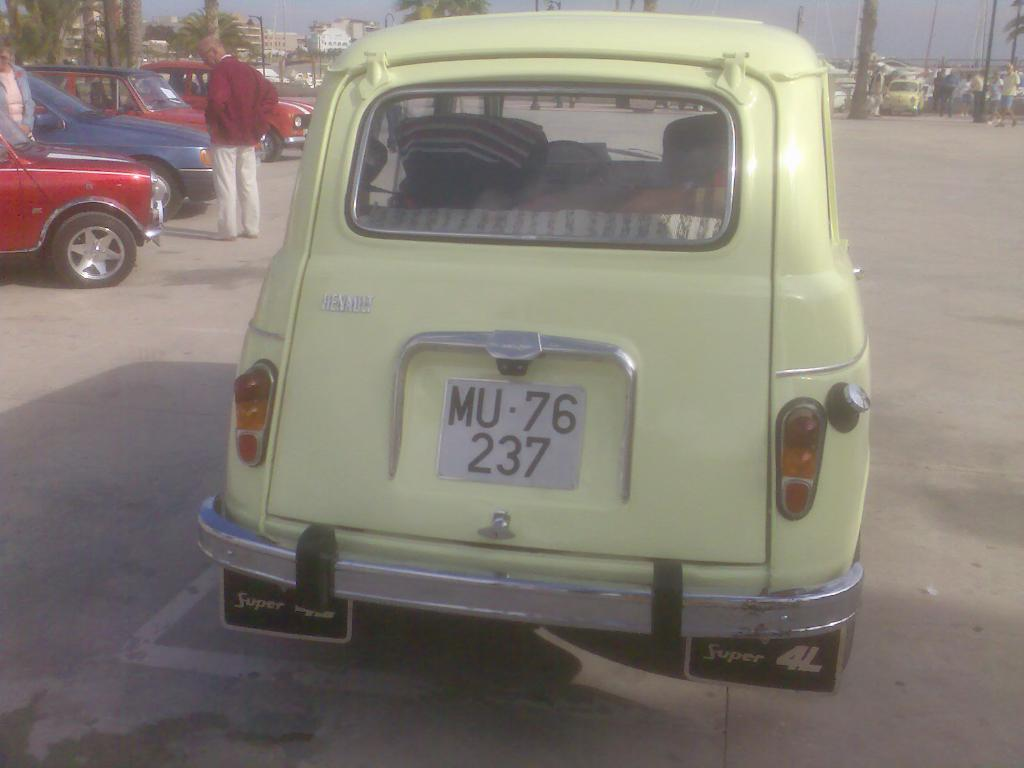Car: (188, 7, 867, 700), (0, 44, 1023, 296)
